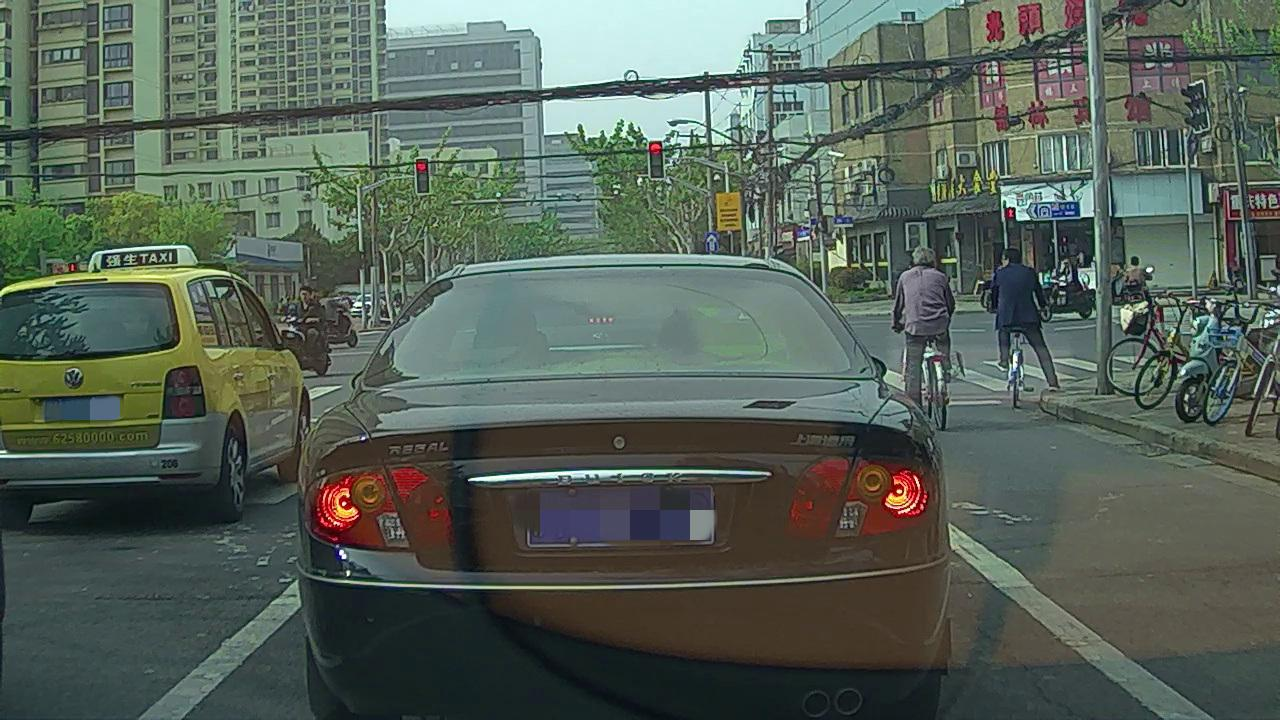traffic_light: (648, 141, 663, 178), (416, 158, 428, 194)
